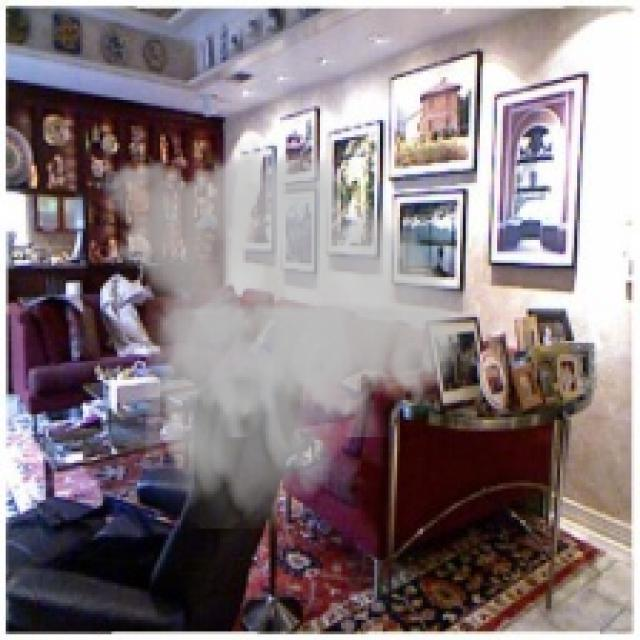Smoke: (86, 134, 486, 529)
